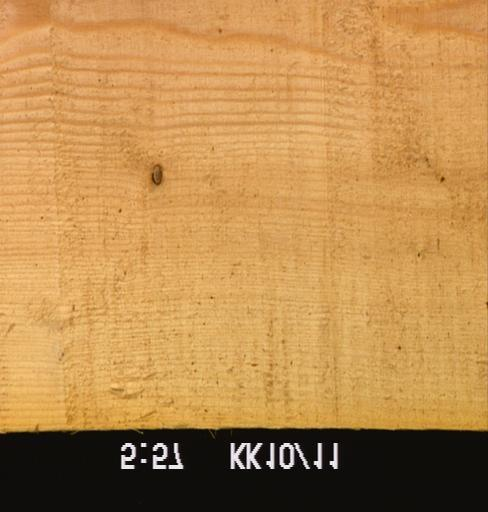dry_knot: (149, 162, 163, 187)
small_knot: (435, 173, 447, 186)
